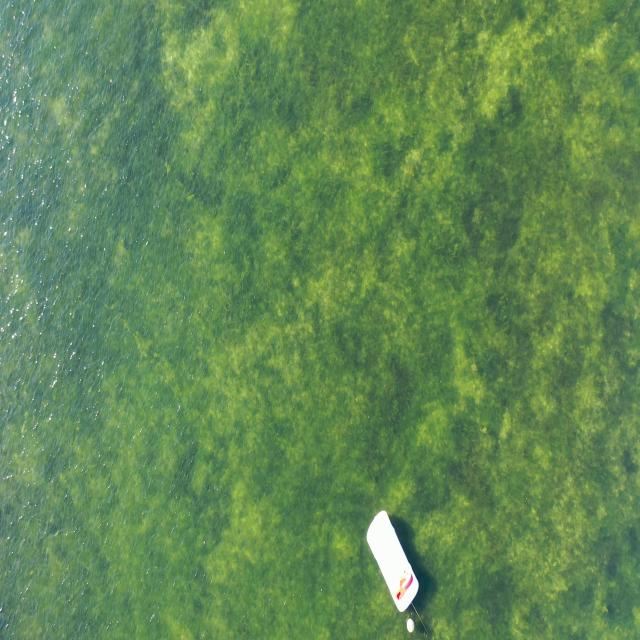boat: (363, 507, 420, 617)
bouy: (406, 616, 416, 636)
